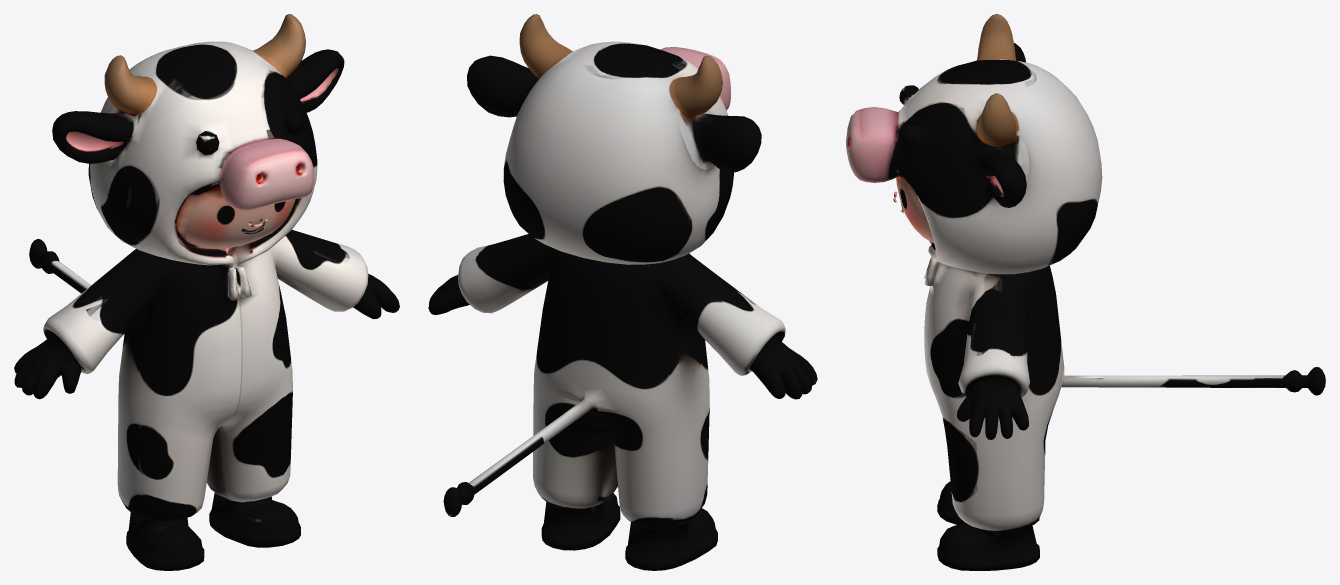
The model's file is 20260127202035_521fbb58.fbx.
3 renders of one model, left to right at view 1: azimuth 30°, elevation 25°; view 2: azimuth 150°, elevation 25°; view 3: azimuth 270°, elevation 25°, orthographic. The views are drawn at different scales.
Visible parts, largest first — view 1: material; view 2: material; view 3: material.
Part boxes in pixels (bbox=[...]): material: bbox=[14, 14, 399, 570]; material: bbox=[428, 14, 817, 570]; material: bbox=[846, 14, 1325, 570].
Bounding box in the file's own units: 80.28 × 104 × 93.66.
1 material, 1 textured.
